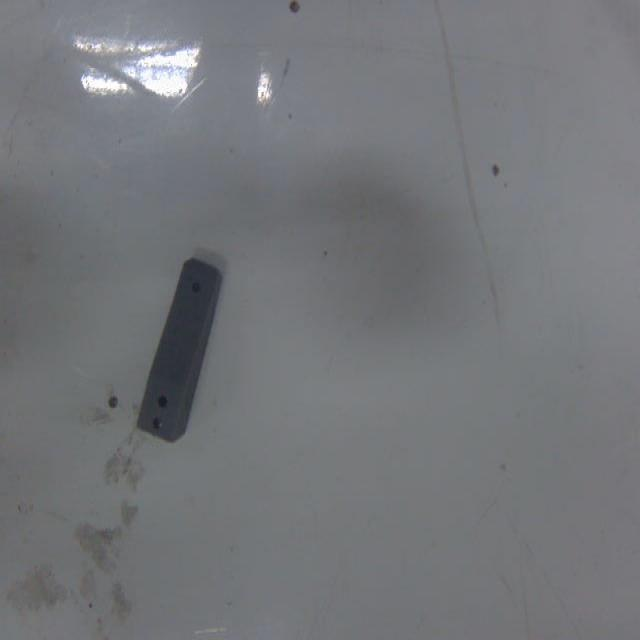grey: (134, 256, 226, 444)
head: (190, 278, 204, 298)
